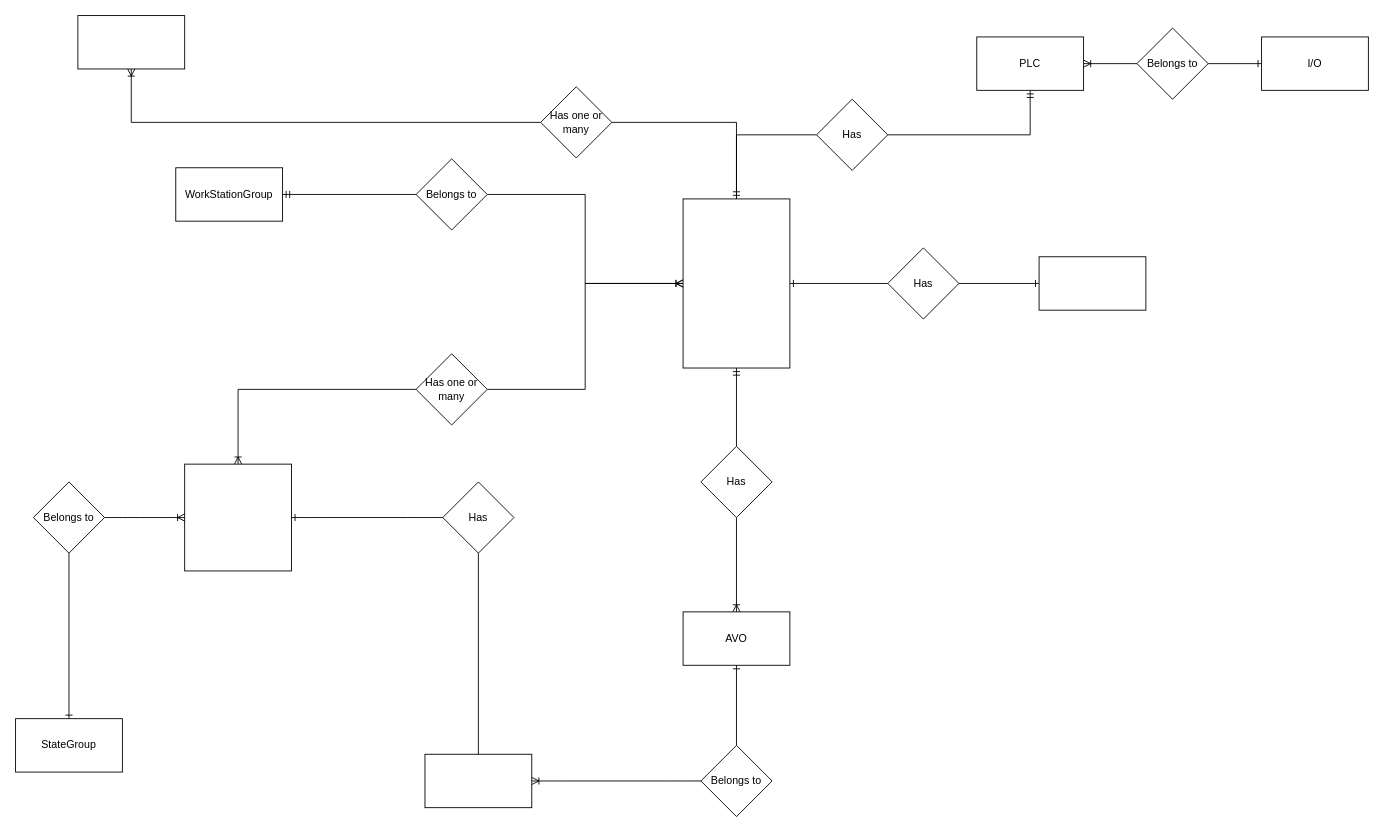
This 1384x832 diagram has some shape labels left out. Each missing label, with the centre of its shape:
"Picture" belongs at point 1092,283.
"Sequence" belongs at point 478,780.
"Shift" belongs at point 131,42.
"State" belongs at point 237,517.
"Work Station" belongs at point 736,283.
